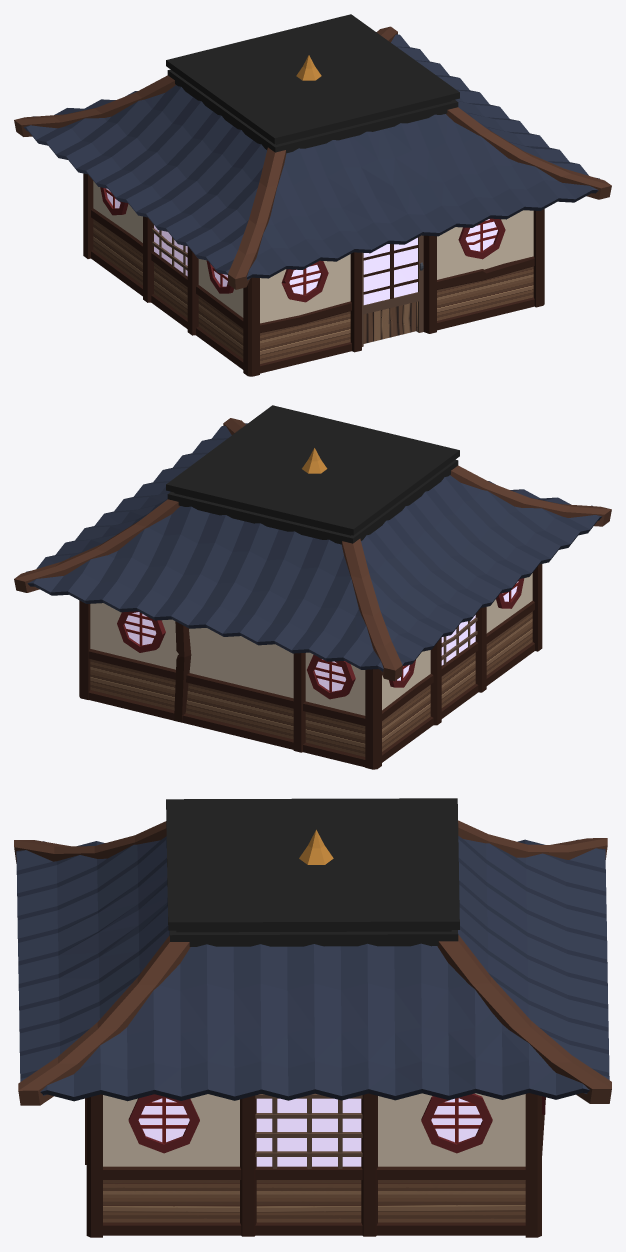
File: Building_1 Asia.fbx
3 views of the same model, one above another, from view 1: azimuth 30°, elevation 25°; view 2: azimuth 150°, elevation 25°; view 3: azimuth 270°, elevation 25° (orthographic). The views are drawn at different scales.
Visible parts, largest first — view 1: Building_1; view 2: Building_1; view 3: Building_1.
Part boxes in pixels (<box>): Building_1: <box>14,14,611,376</box>; Building_1: <box>14,405,611,769</box>; Building_1: <box>14,798,611,1237</box>.
Size of the model in its own units: 6.22 by 3.52 by 6.22.
